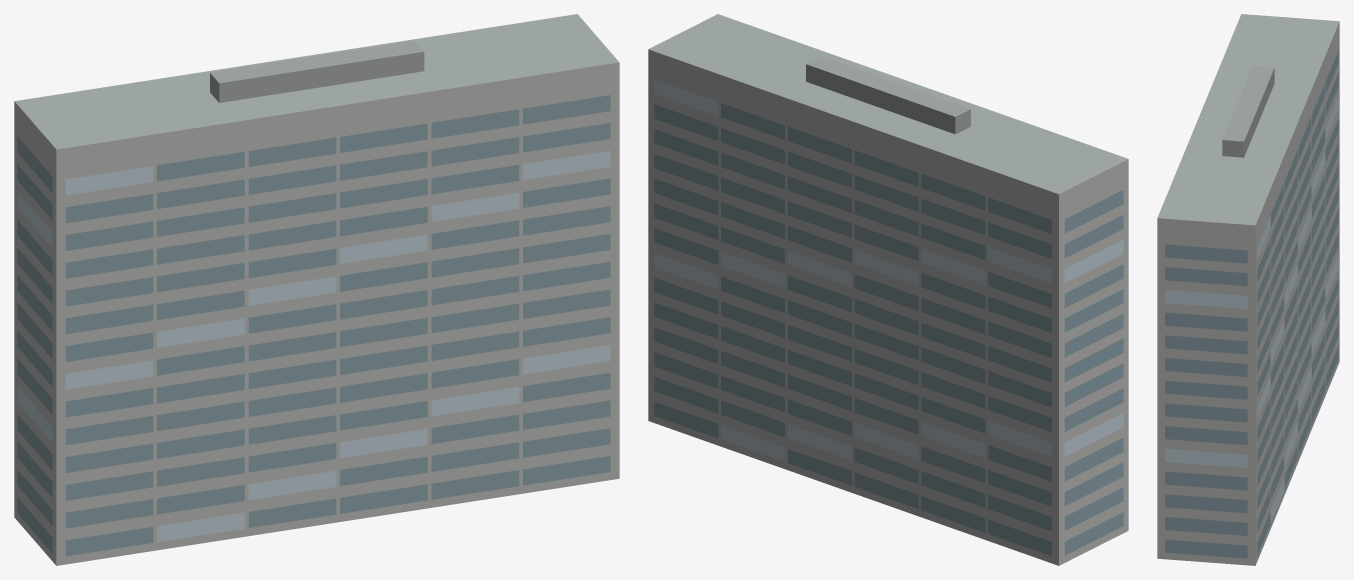
File: apt-a15009605.glb
3 renders of one model, left to right at view 1: azimuth 30°, elevation 25°; view 2: azimuth 150°, elevation 25°; view 3: azimuth 270°, elevation 25°, orthographic. The views are drawn at different scales.
Parts seen in each view (by area): view 1: apt-a15009605; view 2: apt-a15009605; view 3: apt-a15009605.
Boxes of the visible parts, box(x1,y1,x2,y2) form: apt-a15009605: box(14, 14, 619, 565); apt-a15009605: box(648, 14, 1128, 565); apt-a15009605: box(1157, 14, 1339, 565).
Bounding box in the file's own units: 53.41 × 42 × 19.47.
